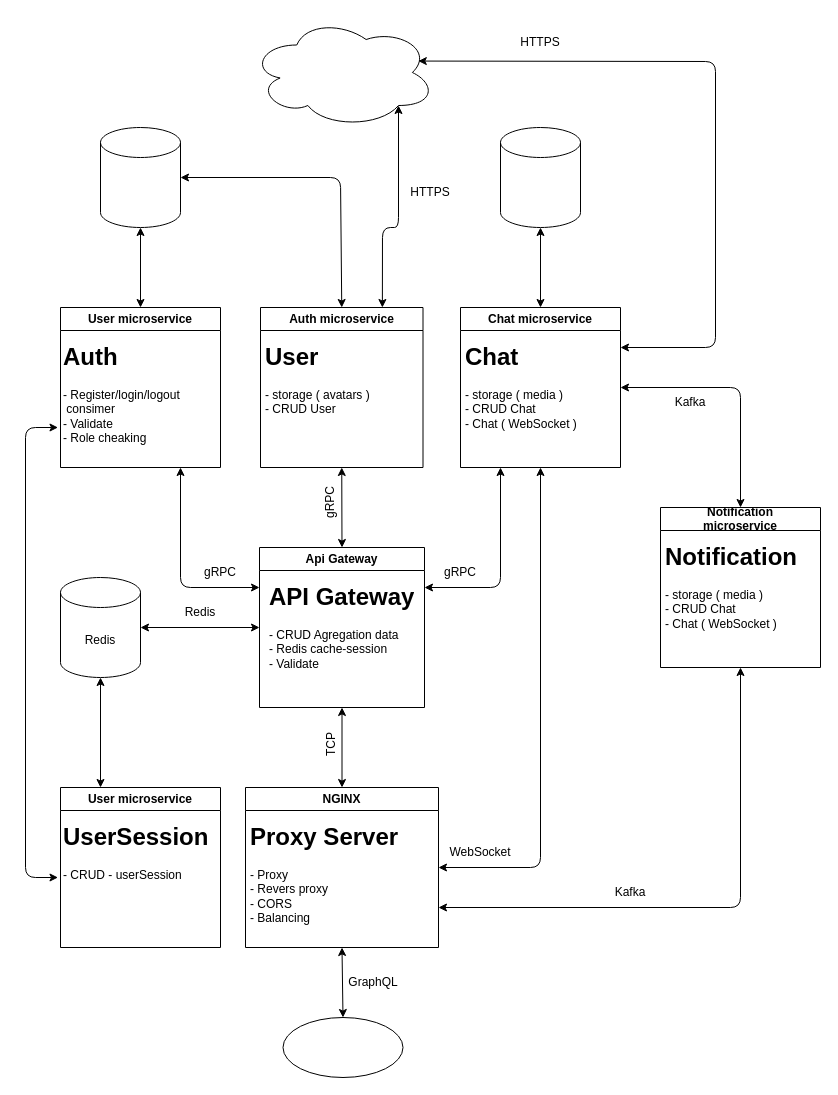
The diagram is 838 pixels wide and 1095 high, and some of its shapes have lost their labels. Here are the shapes that lost their labels. From the top down, the centre of each, then its label:
At [343,72]: "Yandex cloud storage".
At [140,177]: "Postgresql".
At [540,177]: "MongoDB".
At [342,1047]: "Frontend".
